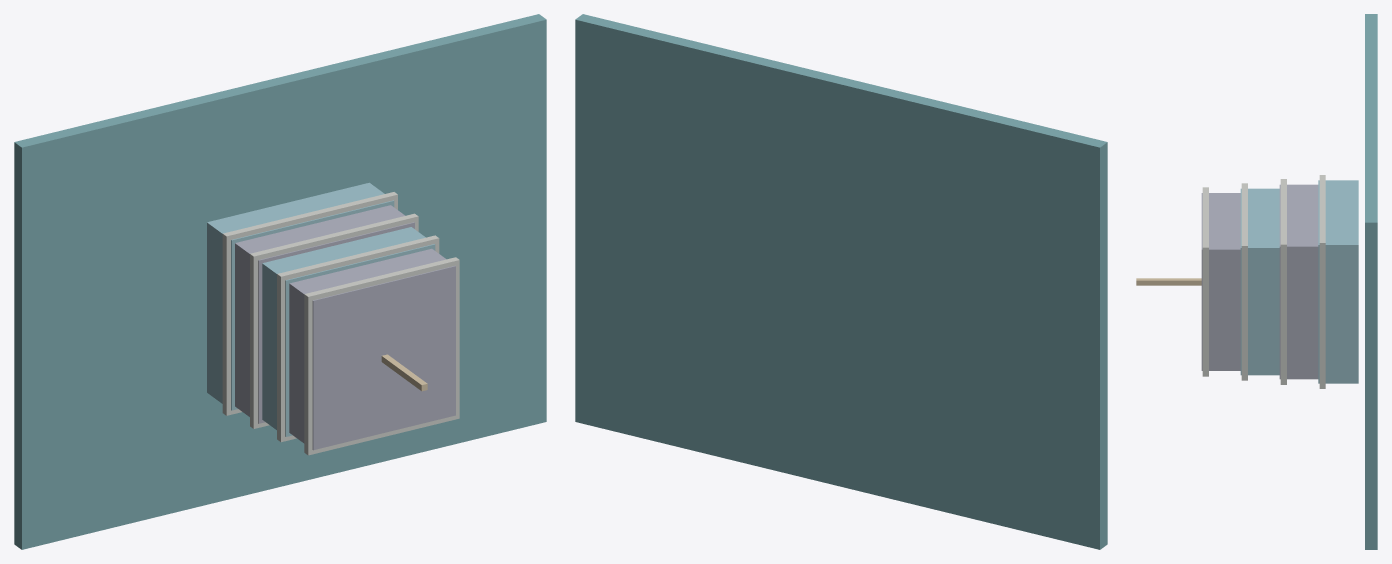
The picture shows the model from 3 angles, left to right: view 1: azimuth 30°, elevation 25°; view 2: azimuth 150°, elevation 25°; view 3: azimuth 270°, elevation 25°; orthographic projection. The views are drawn at different scales.
Parts seen in each view (by area): view 1: section_00, section_07, section_01, section_03, section_05, section_08, section_02, section_04, section_06; view 2: section_00; view 3: section_01, section_00, section_03, section_05, section_07, section_02, section_04, section_06, section_08, section_09.
Boxes of the visible parts, <box> form: section_00: <box>14,14,546,549</box>; section_07: <box>289,248,455,450</box>; section_01: <box>207,182,394,410</box>; section_03: <box>235,205,414,423</box>; section_05: <box>262,227,435,436</box>; section_08: <box>304,257,459,455</box>; section_02: <box>222,192,397,415</box>; section_04: <box>250,213,418,428</box>; section_06: <box>277,235,439,442</box>; section_00: <box>575,14,1107,549</box>; section_01: <box>1318,180,1358,383</box>; section_00: <box>1365,14,1377,549</box>; section_03: <box>1279,184,1318,379</box>; section_05: <box>1240,188,1279,375</box>; section_07: <box>1201,193,1240,370</box>; section_02: <box>1319,175,1325,388</box>; section_04: <box>1280,179,1286,384</box>; section_06: <box>1241,183,1247,380</box>; section_08: <box>1202,187,1208,376</box>; section_09: <box>1136,278,1201,285</box>.
Size of the model in its own units: 7.1 by 5.2 by 3.47.
